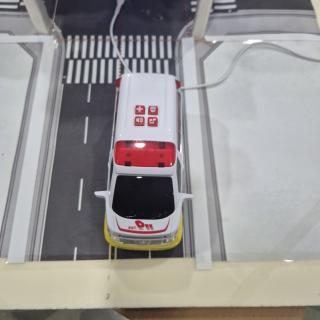Ambulance: (95, 73, 193, 250)
